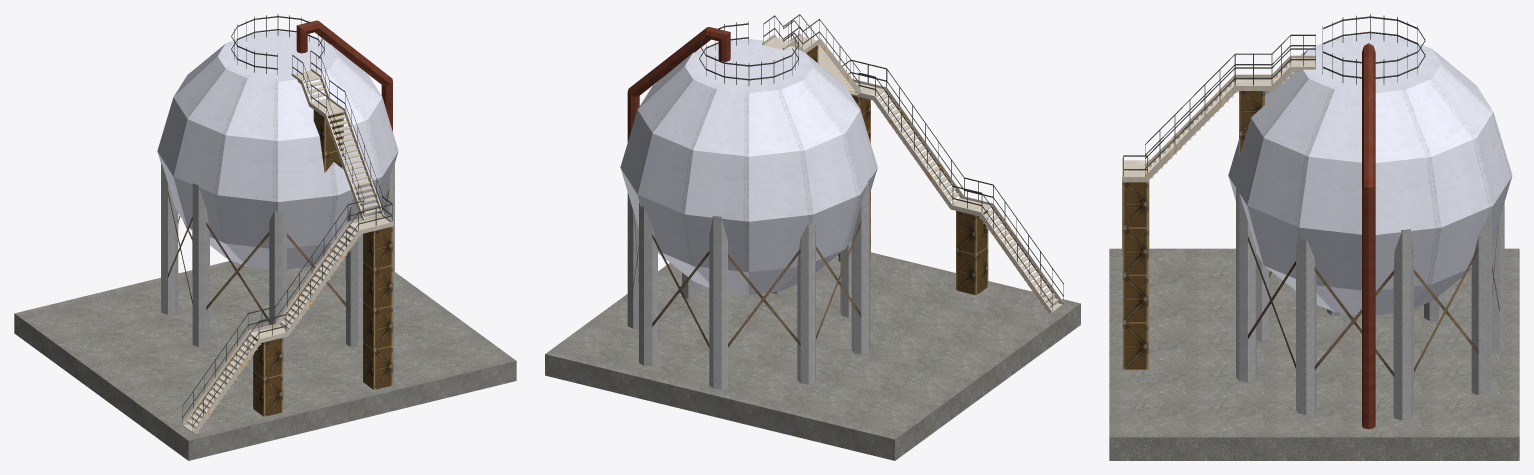
The model's file is ref_oiltank01.obj.
The picture shows the model from 3 angles, left to right: view 1: azimuth 30°, elevation 25°; view 2: azimuth 150°, elevation 25°; view 3: azimuth 270°, elevation 25°; orthographic projection. The views are drawn at different scales.
Visible parts, largest first — view 1: ref_oiltank01; view 2: ref_oiltank01; view 3: ref_oiltank01.
Boxes of the visible parts, bbox=[...] form: ref_oiltank01: bbox=[14, 14, 516, 460]; ref_oiltank01: bbox=[545, 14, 1080, 460]; ref_oiltank01: bbox=[1109, 14, 1519, 460].
Bounding box in the file's own units: 17.07 × 14.98 × 15.69.
